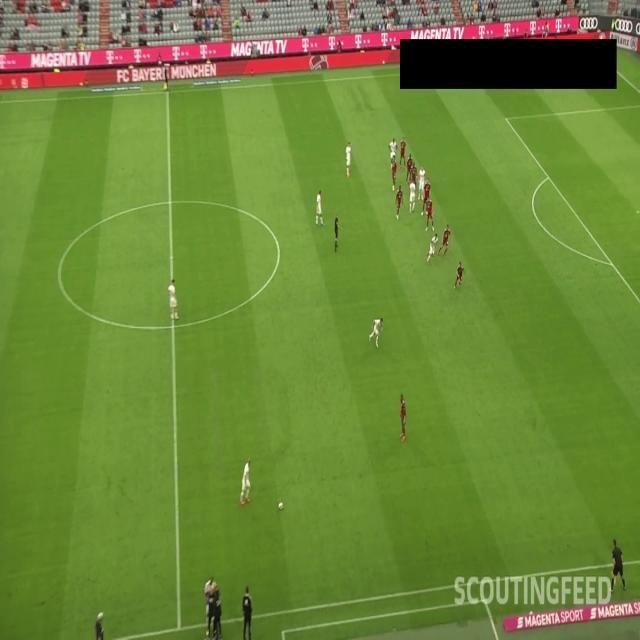ball: (278, 497, 284, 515)
player: (166, 276, 182, 316), (397, 390, 409, 443), (240, 456, 251, 504), (372, 310, 383, 348), (315, 187, 325, 224), (427, 230, 438, 262), (422, 179, 432, 213), (389, 138, 398, 169), (442, 225, 450, 259), (419, 163, 426, 201), (344, 139, 351, 177), (391, 153, 399, 186), (408, 178, 416, 210), (399, 135, 407, 167), (396, 183, 402, 217), (426, 200, 433, 228), (456, 260, 463, 287), (408, 153, 413, 185), (411, 165, 416, 191)
